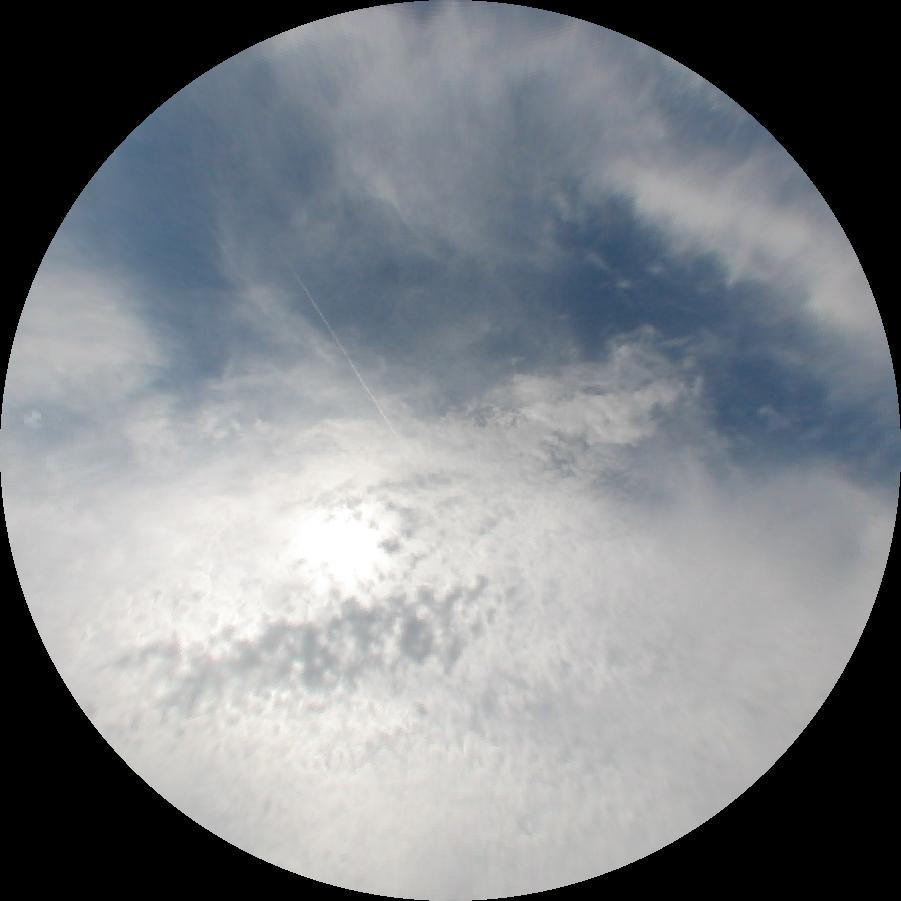contrail young: (272, 236, 398, 436)
sun: (289, 507, 383, 586)
